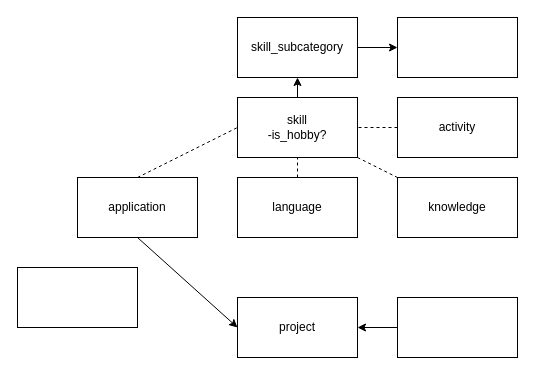
This 535x375 diagram has some shape labels left out. The shapes that lost their labels are listed below. From the top down, each one's box as (x1, y1, x2, y2) in pixels, then its label:
(396, 16, 518, 78): skill_category
(16, 266, 138, 328): application_category (language/app/etc)
(396, 296, 518, 358): workplace
